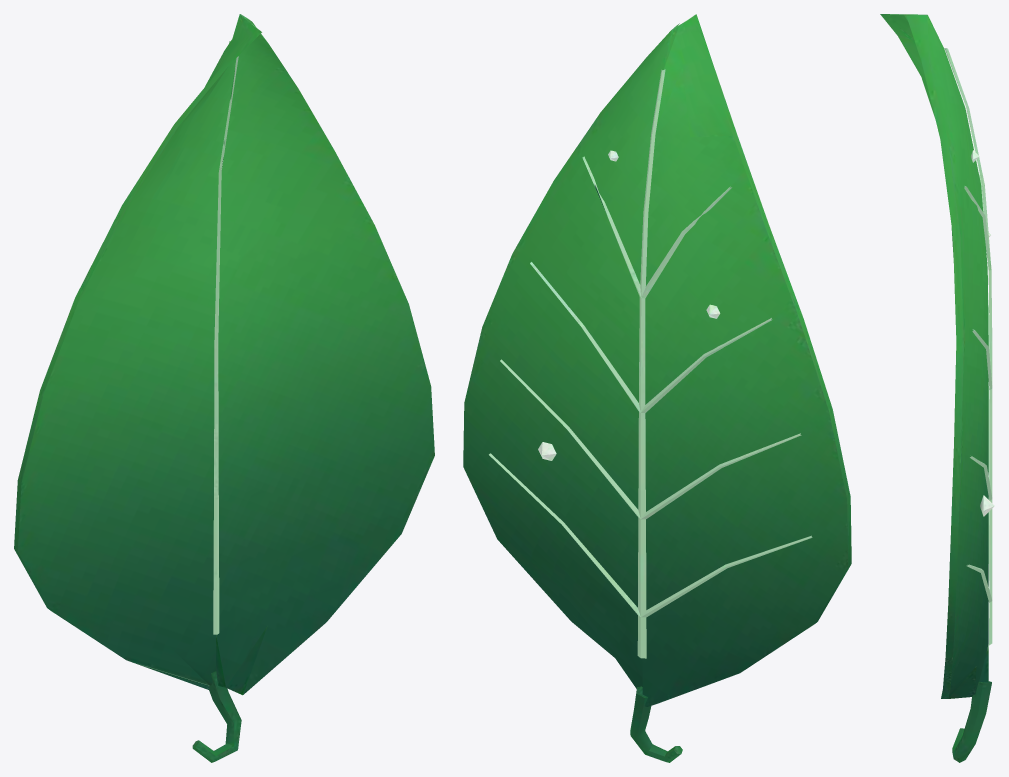
3 renders of one model, left to right at view 1: azimuth 30°, elevation 25°; view 2: azimuth 150°, elevation 25°; view 3: azimuth 270°, elevation 25°, orthographic. The views are drawn at different scales.
Parts seen in each view (by area): view 1: glow_WetLeaf_MintVeins; view 2: glow_WetLeaf_MintVeins; view 3: glow_WetLeaf_MintVeins.
Boxes of the visible parts, x1,y1,x2,y2 form: glow_WetLeaf_MintVeins: (14, 14, 434, 762); glow_WetLeaf_MintVeins: (463, 14, 851, 762); glow_WetLeaf_MintVeins: (880, 14, 994, 762).
Size of the model in its own units: 0.5 by 0.8794 by 0.1227.
1 material, 1 textured.
